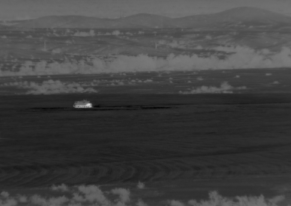Target: (74, 101, 92, 107)
